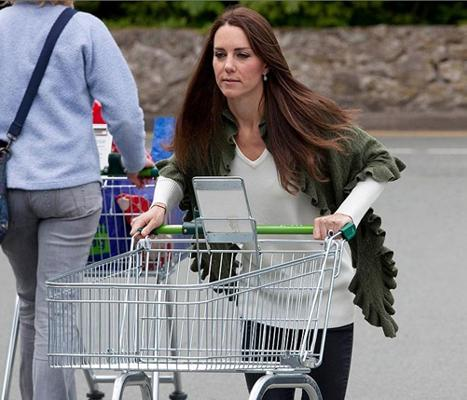person: (130, 7, 401, 400)
